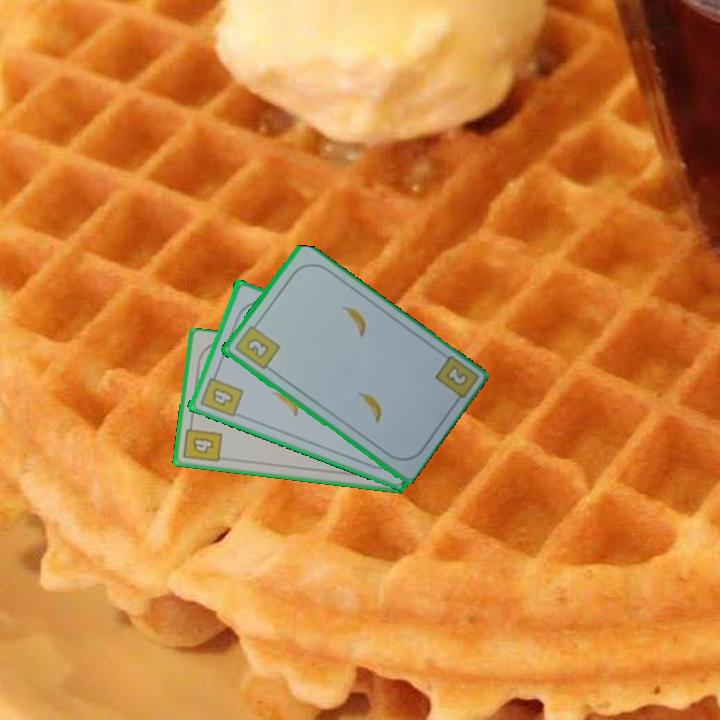2b: (231, 318, 282, 372), (442, 362, 471, 389)
4b: (196, 368, 245, 420), (180, 418, 225, 465)
